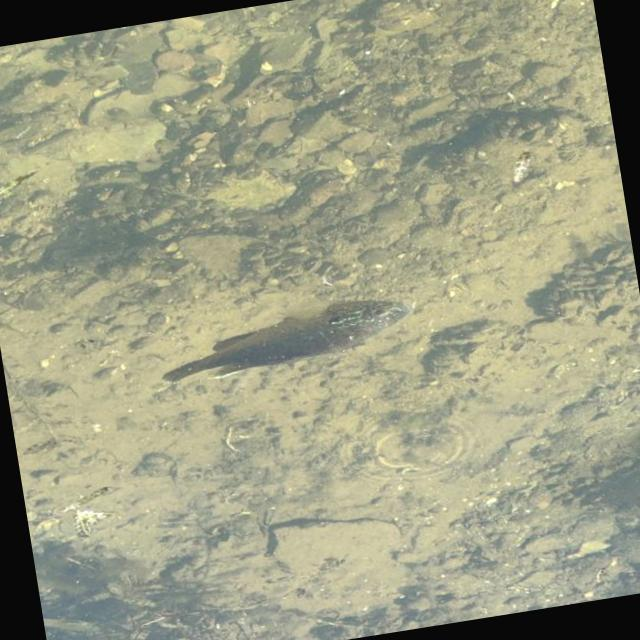Gunes Levregi: (144, 281, 428, 393)
